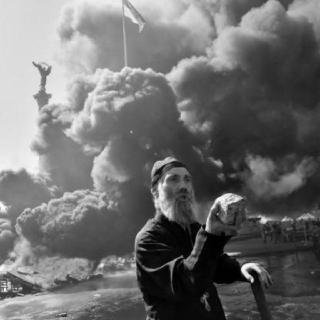Fire: (8, 186, 110, 290)
